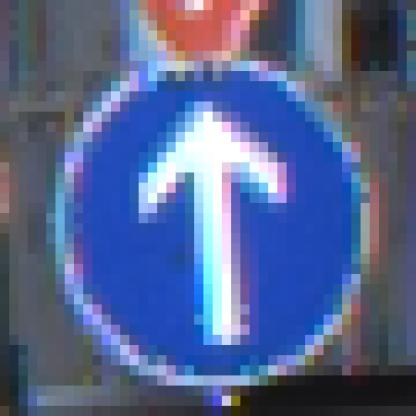AheadOnly: (56, 52, 371, 366)
